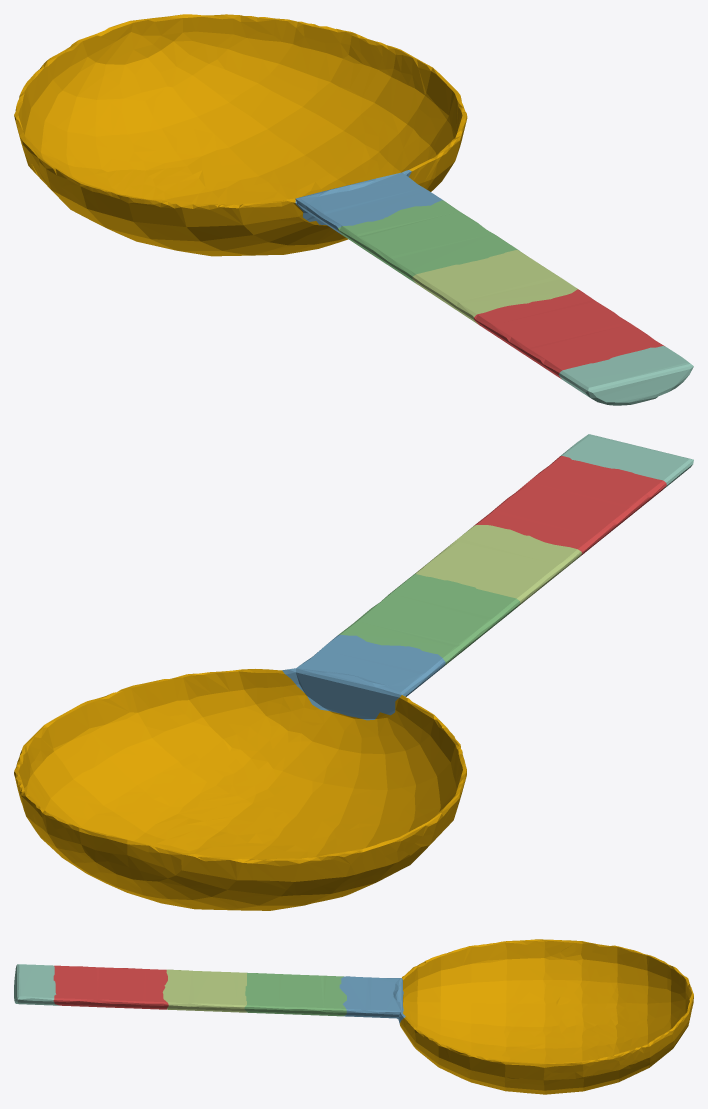
File: mode_14_6pcs.glb
3 renders of one model, top to bottom at view 1: azimuth 30°, elevation 25°; view 2: azimuth 150°, elevation 25°; view 3: azimuth 270°, elevation 25°, orthographic. The views are drawn at different scales.
Parts seen in each view (by area): view 1: piece_0.obj, piece_1.obj, piece_3.obj, piece_5.obj, piece_4.obj, piece_2.obj; view 2: piece_0.obj, piece_1.obj, piece_3.obj, piece_2.obj, piece_5.obj, piece_4.obj; view 3: piece_0.obj, piece_1.obj, piece_3.obj, piece_5.obj, piece_2.obj, piece_4.obj.
Boxes of the visible parts, left/top/right/bottom form: piece_0.obj: left=14, top=14, right=467, bottom=256; piece_1.obj: left=474, top=289, right=665, bottom=379; piece_3.obj: left=338, top=200, right=519, bottom=283; piece_5.obj: left=412, top=250, right=578, bottom=324; piece_4.obj: left=558, top=346, right=693, bottom=405; piece_2.obj: left=295, top=170, right=443, bottom=235; piece_0.obj: left=14, top=669, right=466, bottom=910; piece_1.obj: left=474, top=456, right=666, bottom=556; piece_3.obj: left=338, top=573, right=520, bottom=666; piece_2.obj: left=282, top=634, right=445, bottom=720; piece_5.obj: left=415, top=525, right=582, bottom=607; piece_4.obj: left=560, top=434, right=693, bottom=488; piece_0.obj: left=400, top=939, right=693, bottom=1094; piece_1.obj: left=53, top=965, right=168, bottom=1009; piece_3.obj: left=244, top=972, right=346, bottom=1016; piece_5.obj: left=162, top=969, right=246, bottom=1012; piece_2.obj: left=339, top=976, right=405, bottom=1023; piece_4.obj: left=14, top=964, right=59, bottom=1005.
Size of the model in its own units: 0.4374 by 0.1453 by 1.
